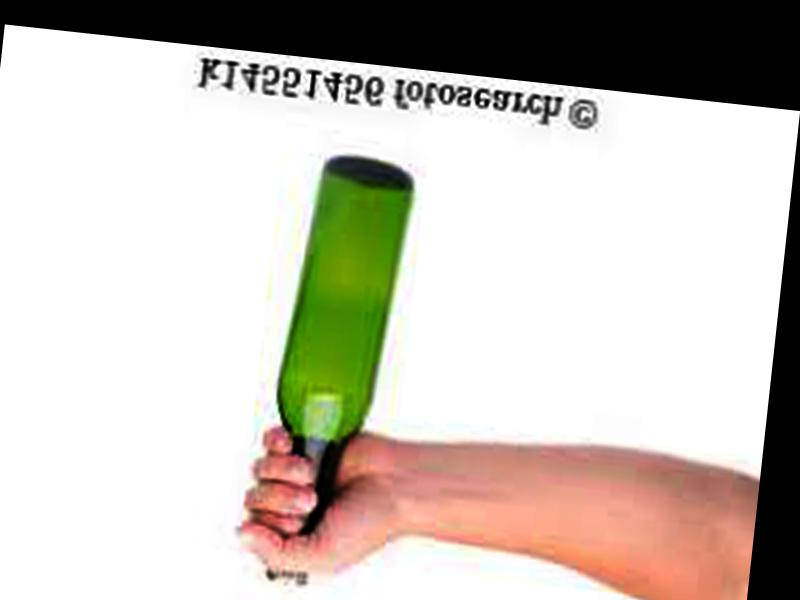Beer: (257, 151, 418, 591)
